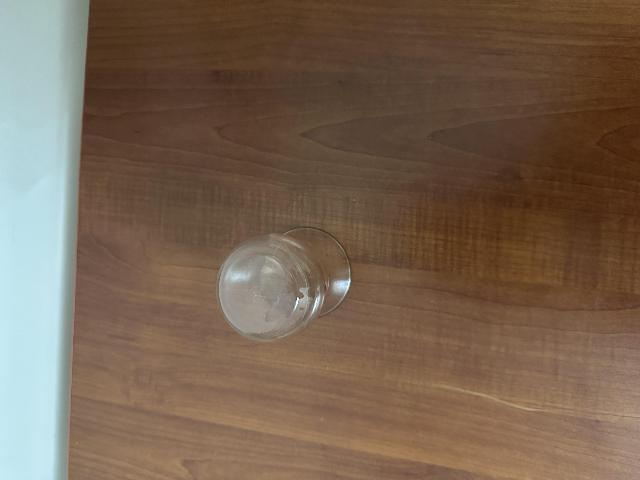Cam: (210, 221, 357, 337)
